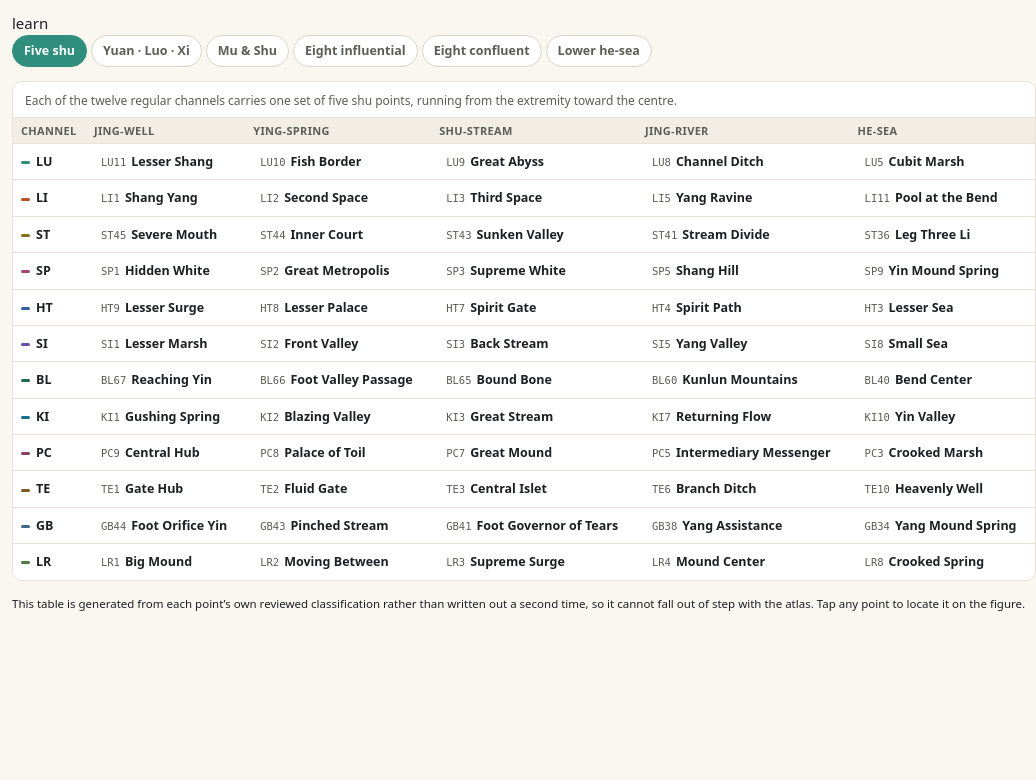
Test: specific-point matrix → atlas handoff › routes away from Learn, where the matrix is actually shown
Expected: the text with test id "route" reads "learn", [12,13,48,33]
Click the button "ST36 Leg Three Li" at (942, 234), box [858,221,1027,248]
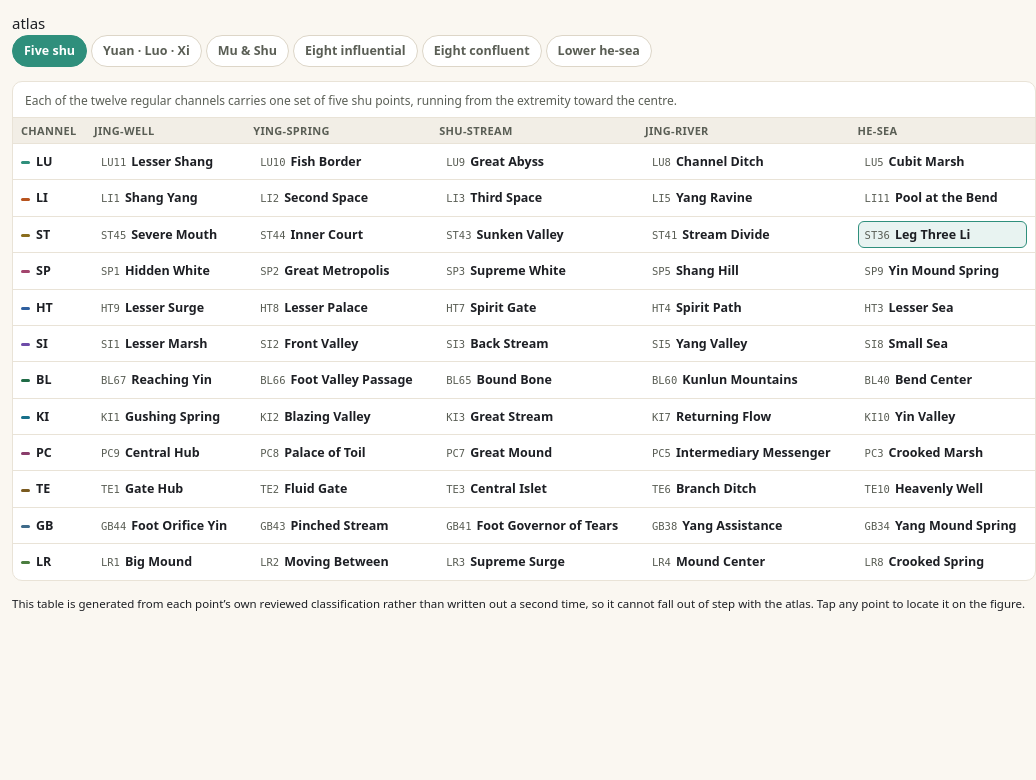
Expected: the text with test id "route" reads "atlas", [12,13,45,33]
